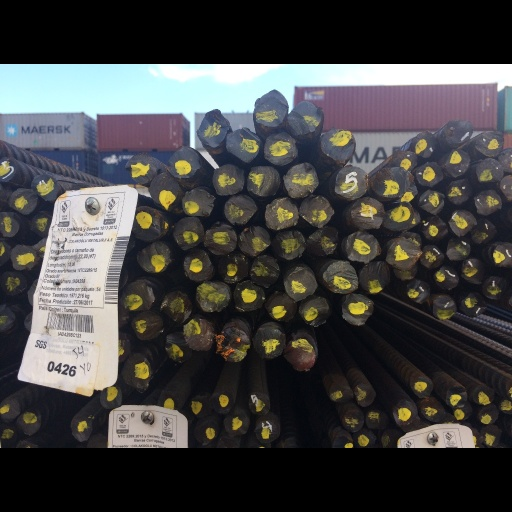dipstick: (287, 47, 324, 100), (253, 32, 289, 86), (217, 348, 253, 401), (130, 189, 169, 237), (224, 84, 261, 133), (370, 137, 414, 178), (196, 59, 230, 112), (385, 229, 423, 276), (321, 260, 358, 308), (319, 84, 356, 132), (283, 130, 319, 178), (263, 88, 298, 137), (299, 173, 335, 219), (284, 269, 318, 317), (334, 133, 368, 181), (136, 235, 173, 279), (158, 300, 192, 347), (194, 288, 231, 331), (252, 348, 285, 396), (346, 221, 382, 265), (350, 176, 385, 221), (121, 384, 151, 436), (182, 338, 215, 385), (284, 366, 317, 413), (264, 177, 299, 221), (203, 211, 237, 256), (358, 262, 390, 308), (149, 142, 180, 189), (121, 288, 155, 330), (211, 132, 245, 174), (173, 202, 204, 248), (168, 110, 201, 153), (341, 307, 374, 350), (250, 253, 280, 300), (182, 248, 214, 292), (298, 308, 330, 352), (237, 216, 271, 257), (224, 173, 257, 215), (247, 135, 280, 177), (233, 287, 265, 330), (126, 116, 157, 160), (272, 222, 306, 262), (181, 164, 214, 204), (131, 330, 163, 370), (217, 252, 249, 292), (265, 304, 297, 344), (473, 86, 505, 126), (165, 356, 194, 399), (307, 218, 338, 258), (383, 184, 414, 223), (7, 163, 38, 201), (390, 445, 418, 484), (443, 73, 474, 108), (10, 240, 38, 278), (474, 166, 502, 203), (411, 87, 438, 125), (415, 128, 445, 162), (474, 124, 504, 158), (31, 147, 59, 183), (0, 275, 28, 311), (449, 193, 477, 229), (470, 204, 498, 240), (421, 201, 449, 236), (459, 303, 487, 338), (29, 194, 54, 233), (445, 112, 471, 149), (69, 468, 95, 504), (193, 472, 219, 508), (224, 459, 249, 496), (433, 267, 459, 302), (405, 285, 431, 320), (431, 306, 457, 341), (419, 240, 445, 274), (447, 151, 470, 189), (390, 113, 418, 144), (482, 282, 506, 318), (15, 463, 41, 496), (156, 434, 181, 468), (461, 260, 486, 294), (419, 167, 444, 200), (98, 426, 122, 460), (210, 435, 234, 469), (253, 475, 279, 506), (341, 457, 364, 492), (0, 444, 23, 478), (446, 233, 471, 264), (328, 422, 353, 453), (420, 447, 445, 478), (189, 438, 213, 470), (247, 436, 270, 468), (353, 425, 376, 457), (392, 263, 419, 290), (492, 238, 512, 274), (0, 201, 23, 232), (445, 426, 467, 458), (410, 415, 433, 444), (351, 485, 376, 511), (472, 427, 495, 454), (452, 447, 473, 476), (397, 157, 418, 185), (366, 460, 387, 488), (381, 486, 403, 512), (477, 454, 499, 480), (332, 488, 354, 512)
